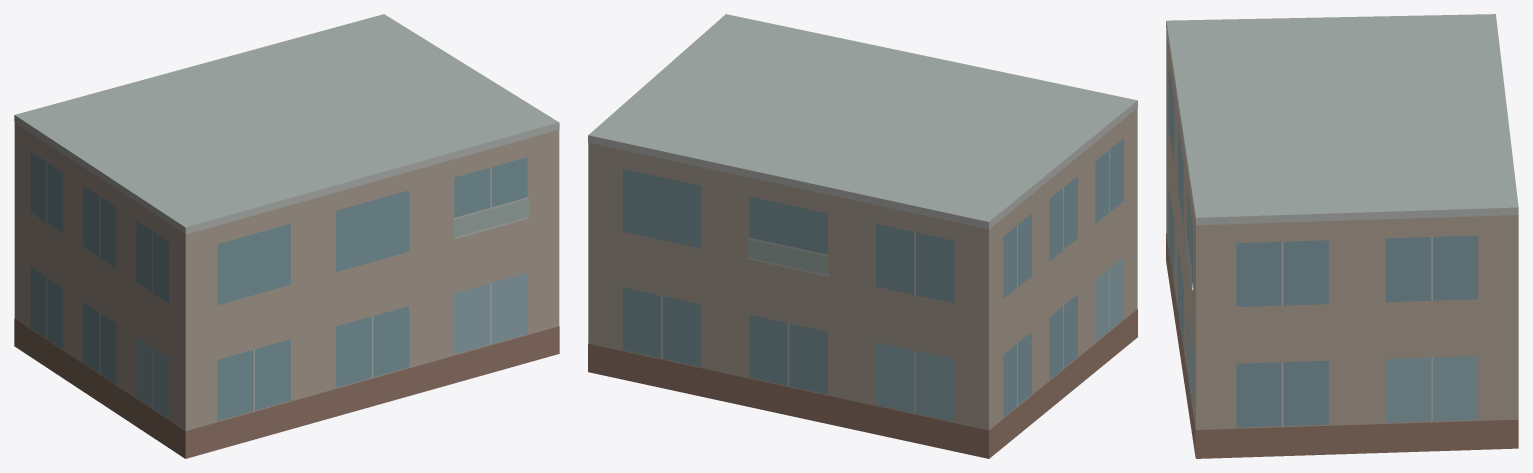
File: survey-upis-32724168.glb
3 views of the same model, side by side, from view 1: azimuth 30°, elevation 25°; view 2: azimuth 150°, elevation 25°; view 3: azimuth 270°, elevation 25° (orthographic). The views are drawn at different scales.
Parts seen in each view (by area): view 1: survey-upis-32724168.tmp; view 2: survey-upis-32724168.tmp; view 3: survey-upis-32724168.tmp.
Boxes of the visible parts, x1=… form: survey-upis-32724168.tmp: x1=14, y1=14, x2=559, y2=458; survey-upis-32724168.tmp: x1=588, y1=14, x2=1137, y2=458; survey-upis-32724168.tmp: x1=1166, y1=14, x2=1518, y2=458.
Size of the model in its own units: 14.25 by 7.85 by 10.41.
